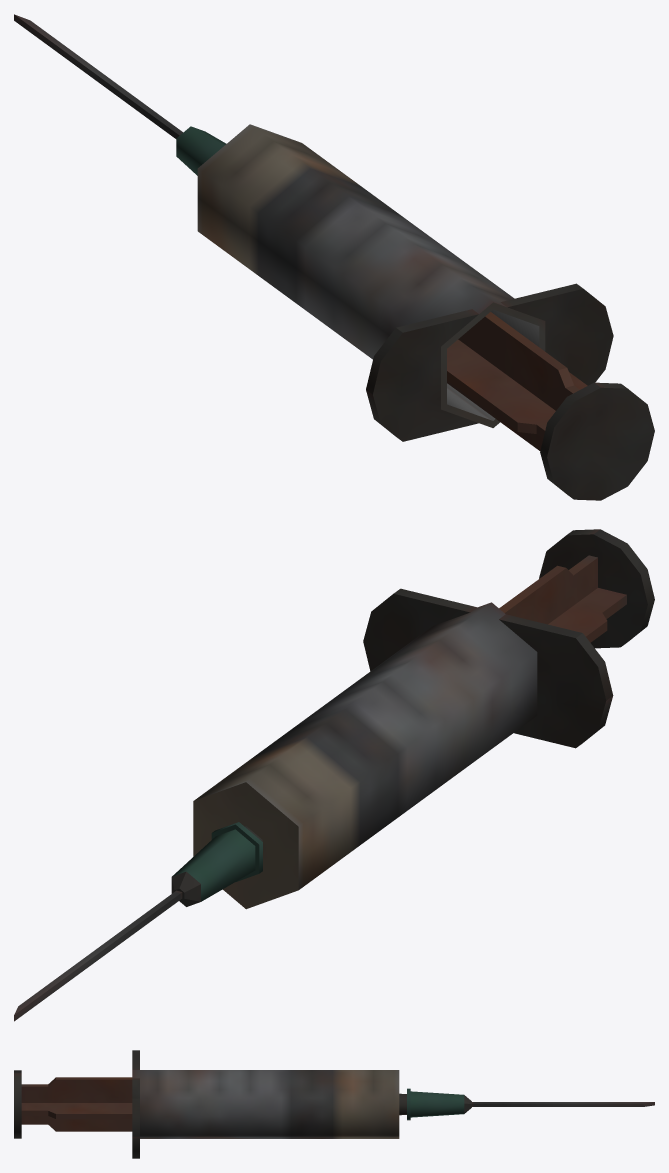
File: syringe_mp_1.obj
The picture shows the model from 3 angles, top to bottom: view 1: azimuth 30°, elevation 25°; view 2: azimuth 150°, elevation 25°; view 3: azimuth 270°, elevation 25°; orthographic projection. The views are drawn at different scales.
Visible parts, largest first — view 1: syringe_mp_1; view 2: syringe_mp_1; view 3: syringe_mp_1.
Part boxes in pixels (box(x1,y1,x2,y2)): syringe_mp_1: box(14, 14, 654, 500); syringe_mp_1: box(14, 529, 654, 1021); syringe_mp_1: box(14, 1050, 654, 1158).
Bounding box in the file's own units: 0.04 × 0.02 × 0.168.
